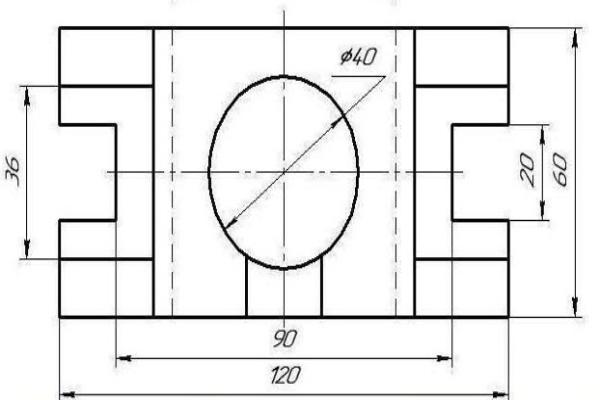dimensions: (332, 39, 380, 70), (514, 148, 543, 195), (262, 364, 310, 390), (546, 150, 574, 189), (0, 153, 26, 188), (268, 328, 303, 350)
